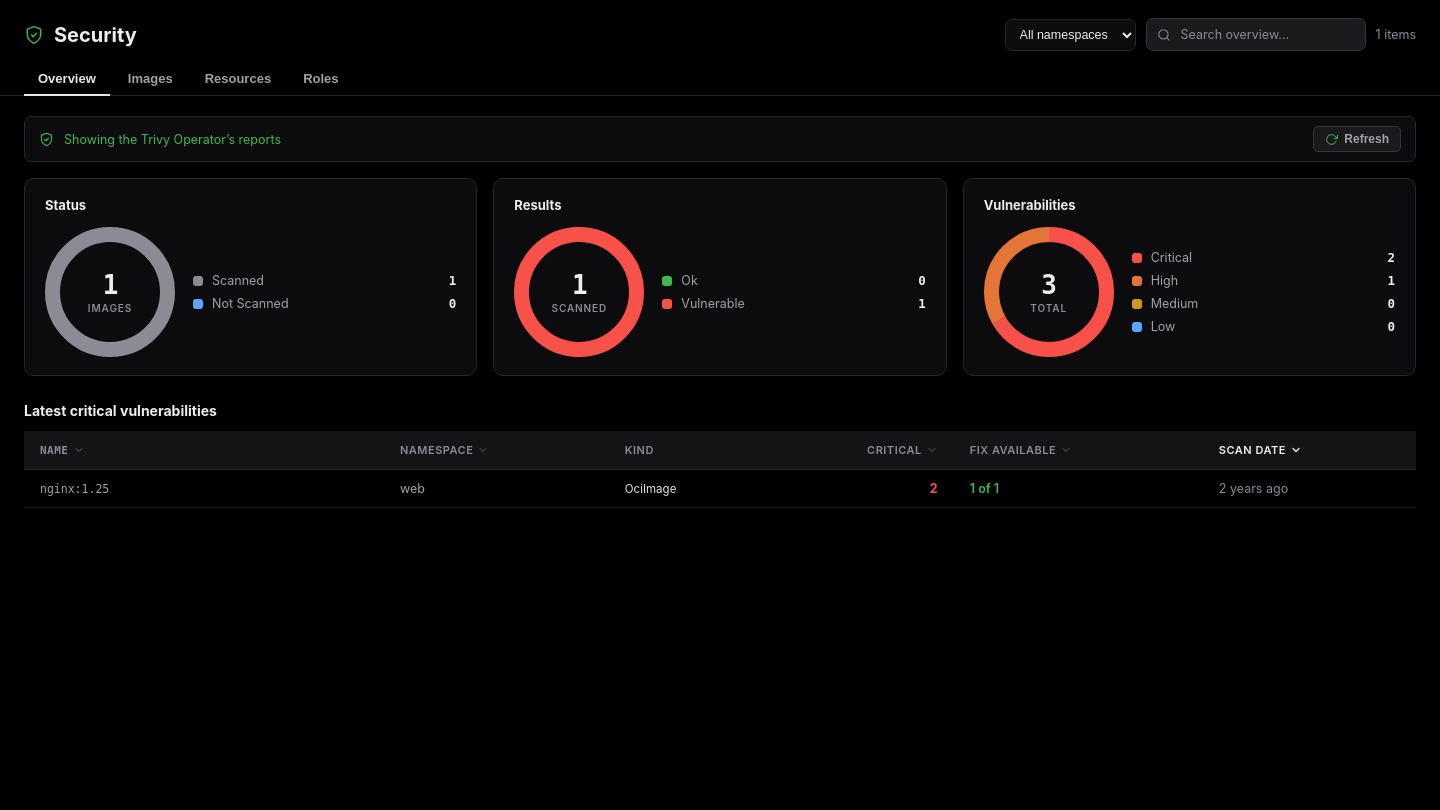
Test case: SecurityCenter › opens the finding drawer as a non-modal dialog and closes it with Escape
This screenshot has width=1440, height=810.
Click the row that starts with "nginx:1.25" at {"x": 720, "y": 489}, box left=24, top=470, right=1416, bottom=508
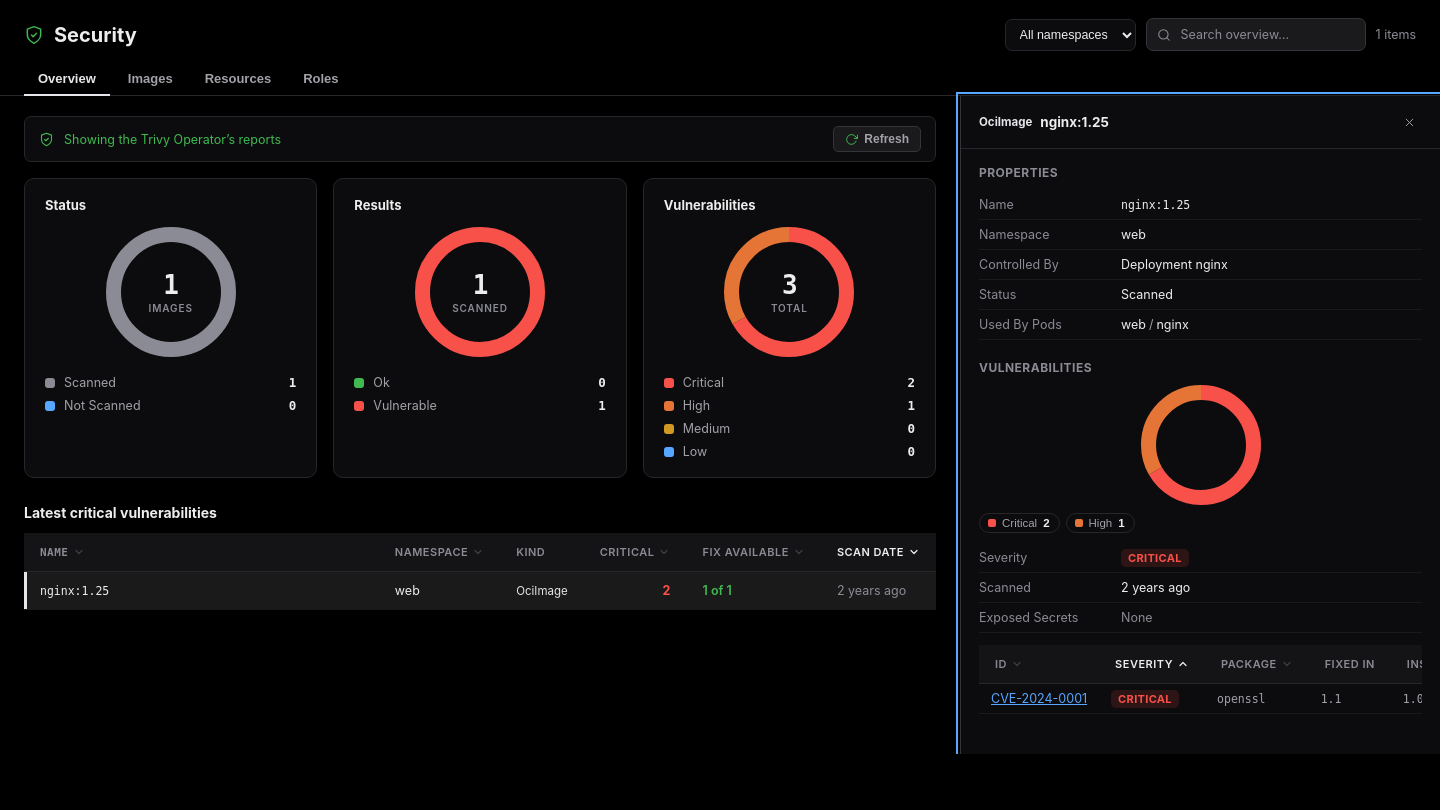
Now the button named "Close finding details" is shown, box left=1396, top=110, right=1422, bottom=134
Now the link "CVE-2024-0001" is shown, box left=991, top=691, right=1087, bottom=706
Press Escape in the dialog "nginx:1.25", box left=960, top=96, right=1439, bottom=754
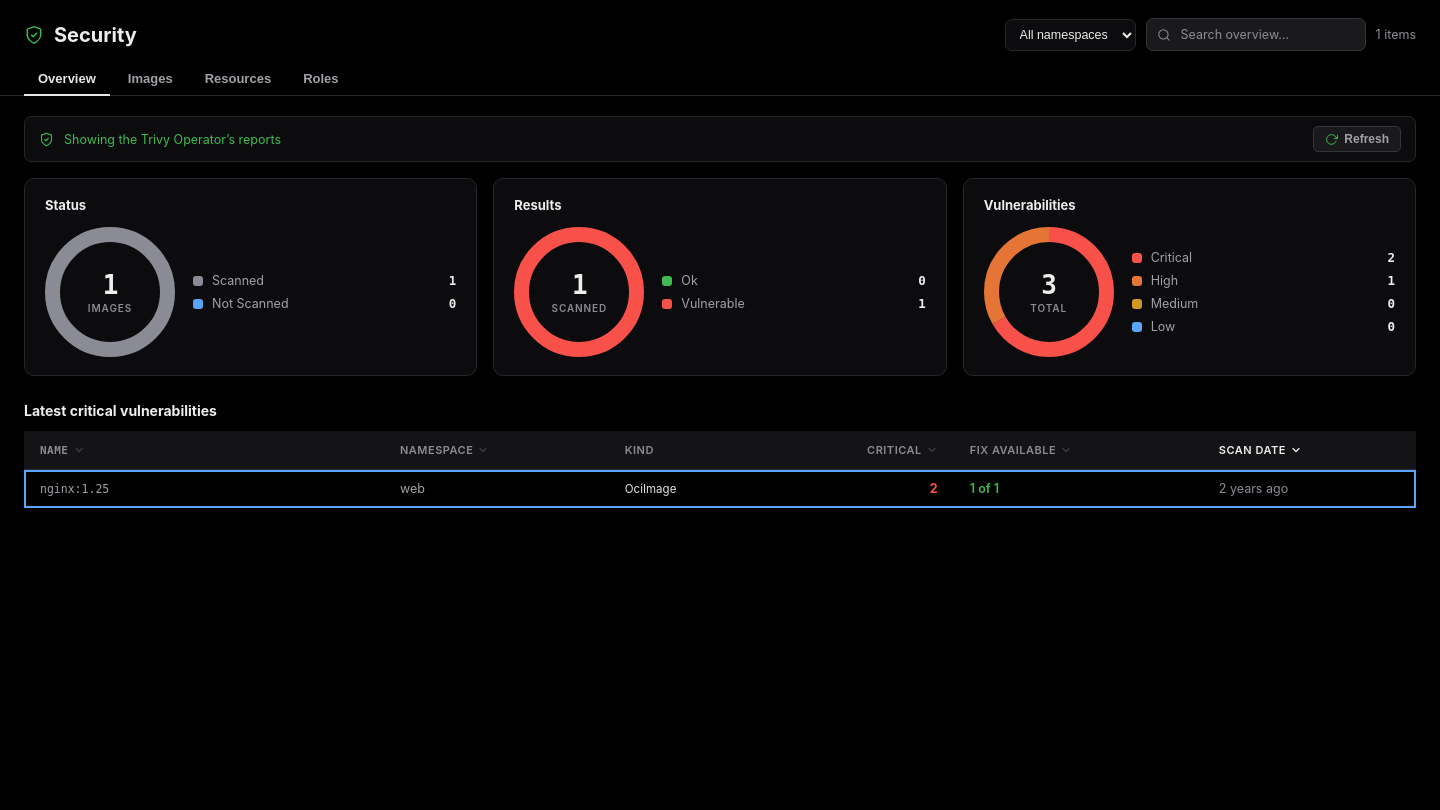
Now the dialog is gone
